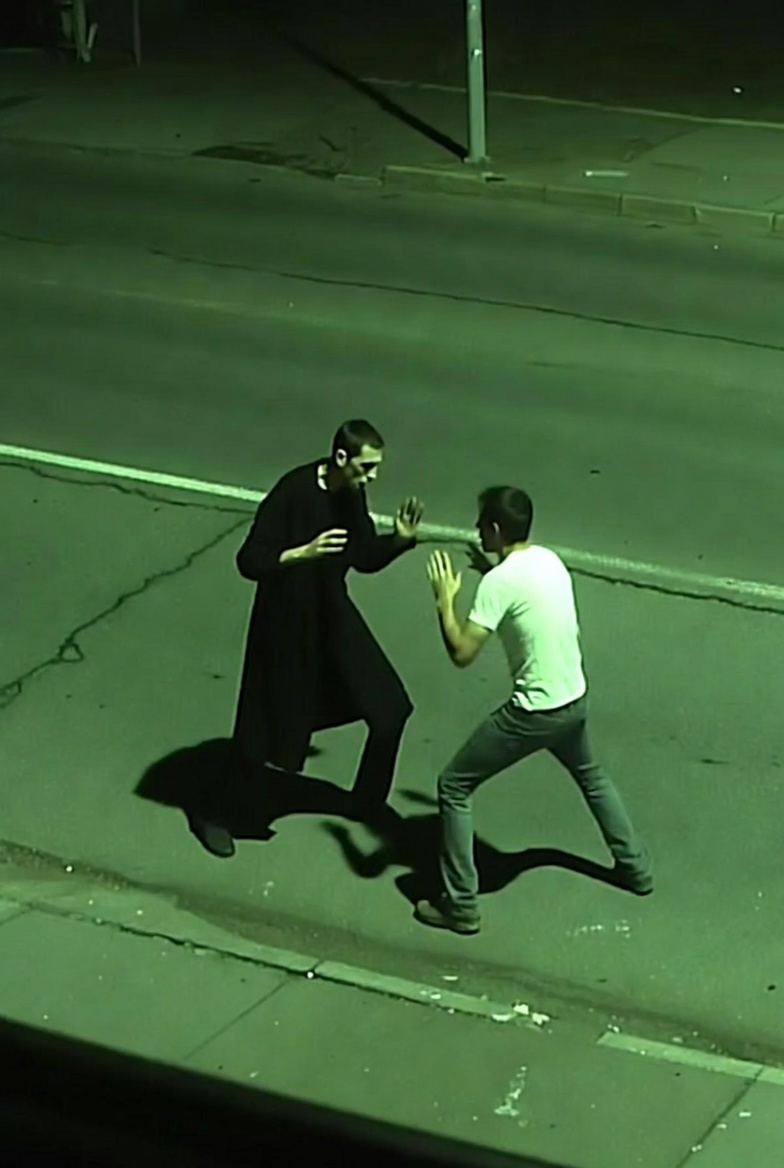Assault: (228, 417, 428, 838)
Fighting: (403, 484, 657, 937)
